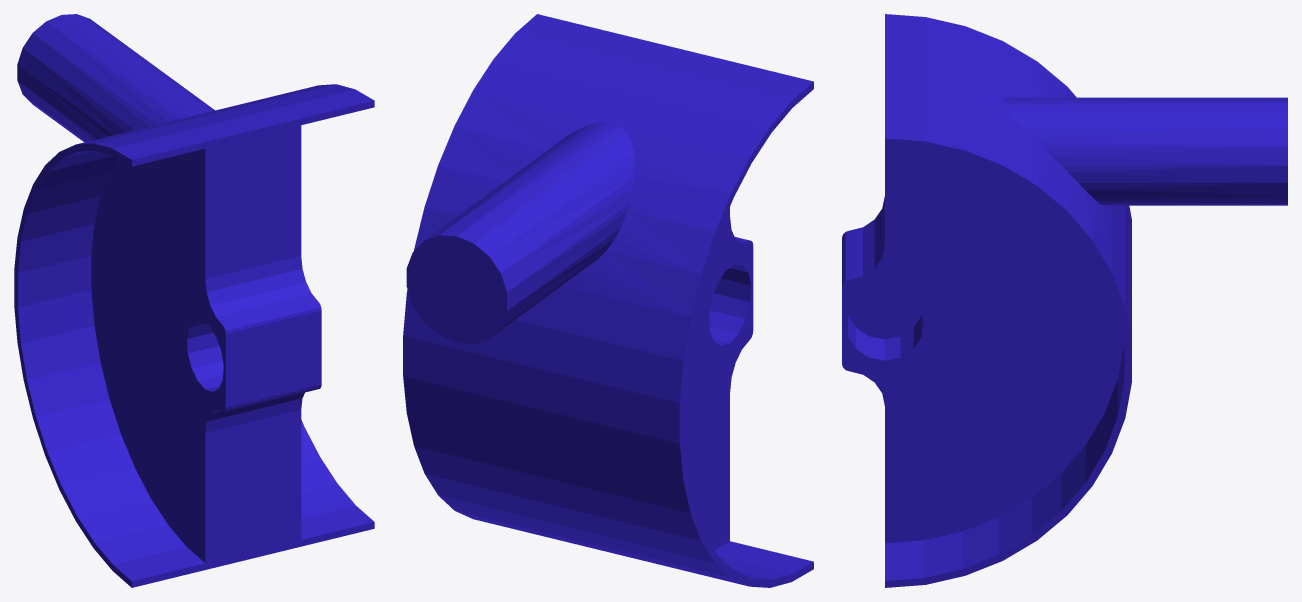
File: caster_joint.dae
3 renders of one model, left to right at view 1: azimuth 30°, elevation 25°; view 2: azimuth 150°, elevation 25°; view 3: azimuth 270°, elevation 25°, orthographic. The views are drawn at different scales.
Parts seen in each view (by area): view 1: caster_joint; view 2: caster_joint; view 3: caster_joint.
Boxes of the visible parts, x1,y1,x2,y2 form: caster_joint: [14, 14, 374, 587]; caster_joint: [403, 14, 813, 587]; caster_joint: [842, 14, 1287, 587].
Bounding box in the file's own units: 38 × 57.53 × 64.
